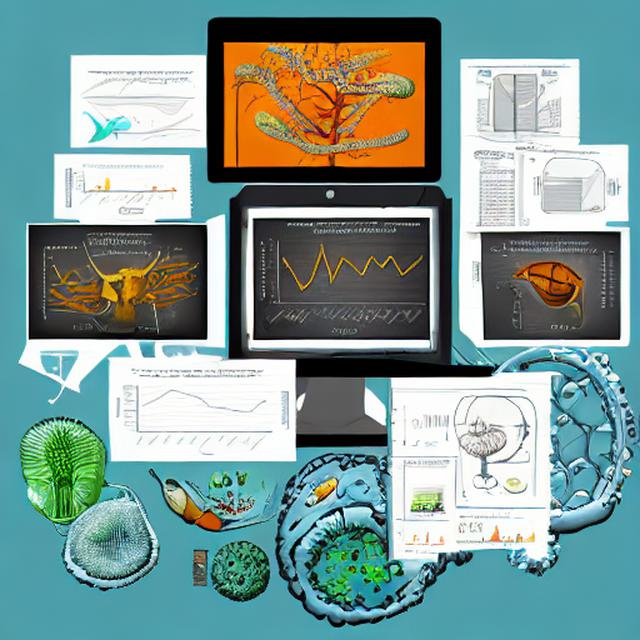Graph: (257, 221, 430, 337), (113, 365, 274, 458), (63, 161, 182, 217), (395, 521, 446, 550)
